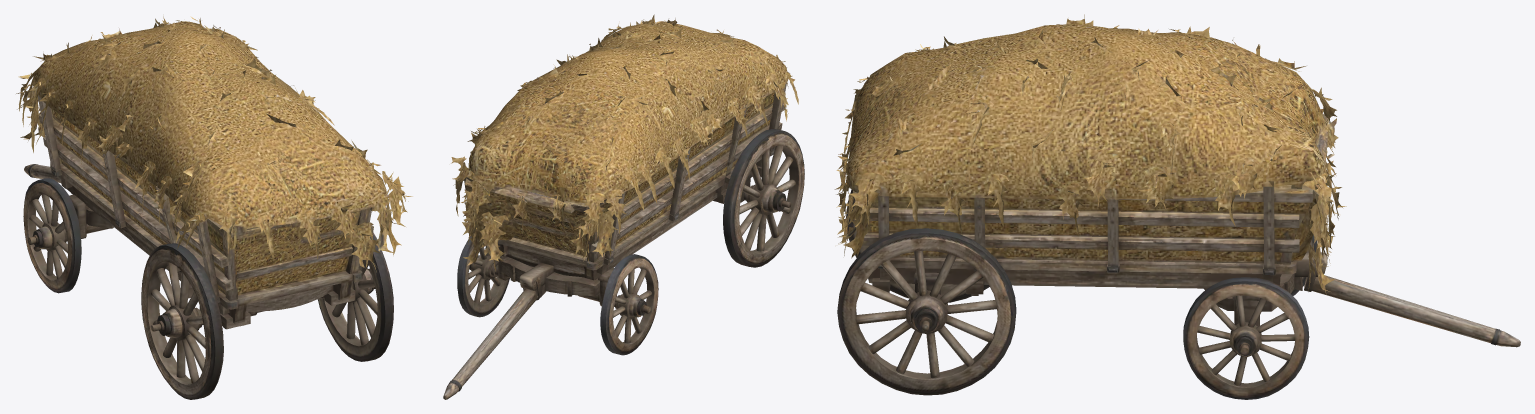
Rendered from haywagon.glb.
The picture shows the model from 3 angles, left to right: view 1: azimuth 30°, elevation 25°; view 2: azimuth 150°, elevation 25°; view 3: azimuth 270°, elevation 25°; orthographic projection. The views are drawn at different scales.
Visible parts, largest first — view 1: haywagon; view 2: haywagon; view 3: haywagon.
Boxes of the visible parts, left/top/right/bottom form: haywagon: left=16, top=16, right=412, bottom=399; haywagon: left=443, top=14, right=804, bottom=399; haywagon: left=834, top=14, right=1520, bottom=399.
Size of the model in its own units: 1.83 by 2.11 by 4.2.
Materials: 1 (1 with a texture image).
